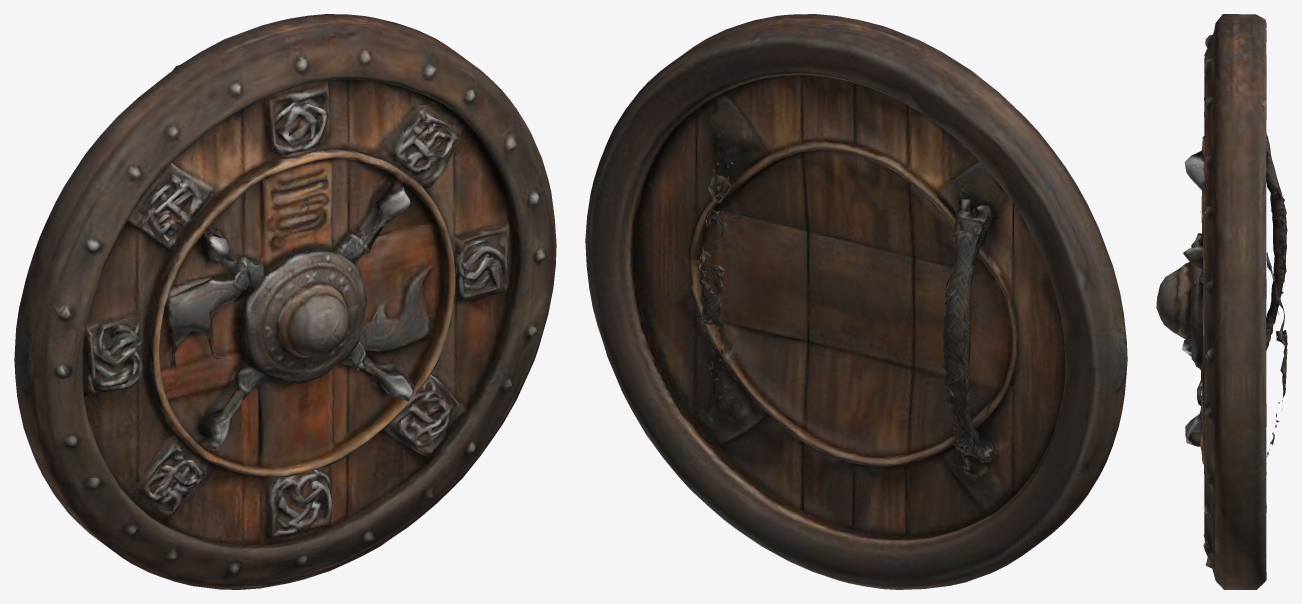
The model's file is PF_Shield2.glb.
3 renders of one model, left to right at view 1: azimuth 30°, elevation 25°; view 2: azimuth 150°, elevation 25°; view 3: azimuth 270°, elevation 25°, orthographic. The views are drawn at different scales.
Bounding box in the file's own units: 2 × 2 × 0.4559.
Materials: 1 (1 with a texture image).
